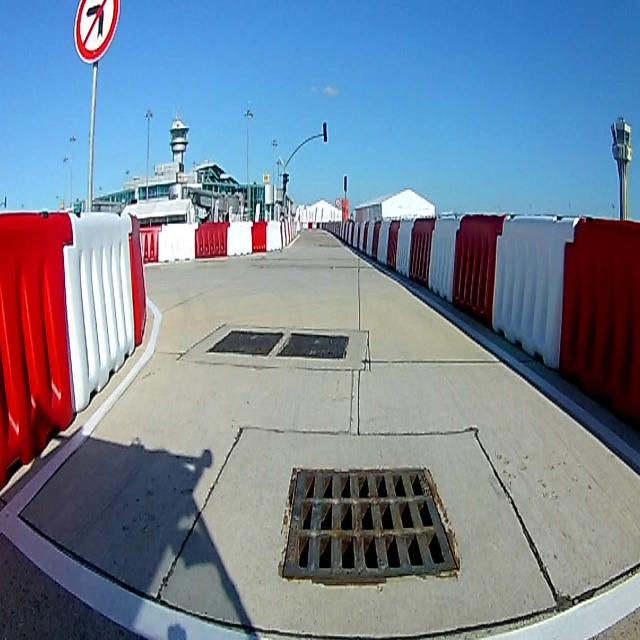soladonulmez: (74, 1, 118, 68)
